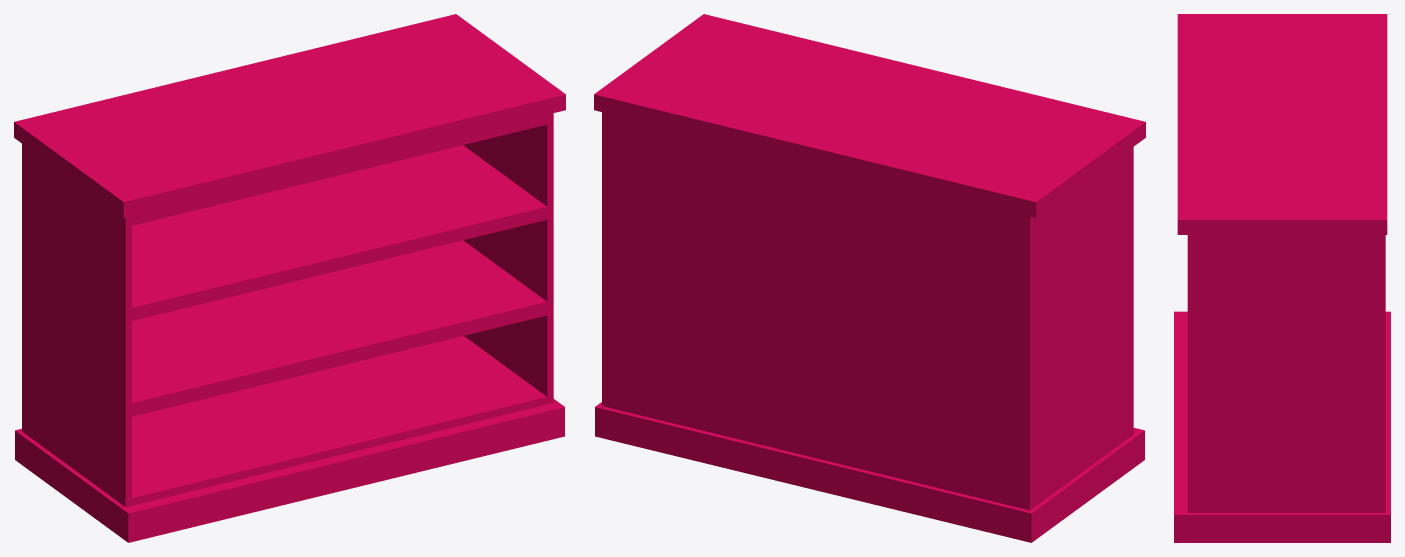
File: Cupboard_03_Lod0.fbx
3 renders of one model, left to right at view 1: azimuth 30°, elevation 25°; view 2: azimuth 150°, elevation 25°; view 3: azimuth 270°, elevation 25°, orthographic. The views are drawn at different scales.
Parts seen in each view (by area): view 1: Cupboard_03_Lod0; view 2: Cupboard_03_Lod0; view 3: Cupboard_03_Lod0.
Part boxes in pixels (box(x1,y1,x2,y2)): Cupboard_03_Lod0: box(14, 14, 565, 542); Cupboard_03_Lod0: box(594, 14, 1145, 542); Cupboard_03_Lod0: box(1174, 14, 1390, 542).
Bounding box in the file's own units: 127 × 93.16 × 56.39.
